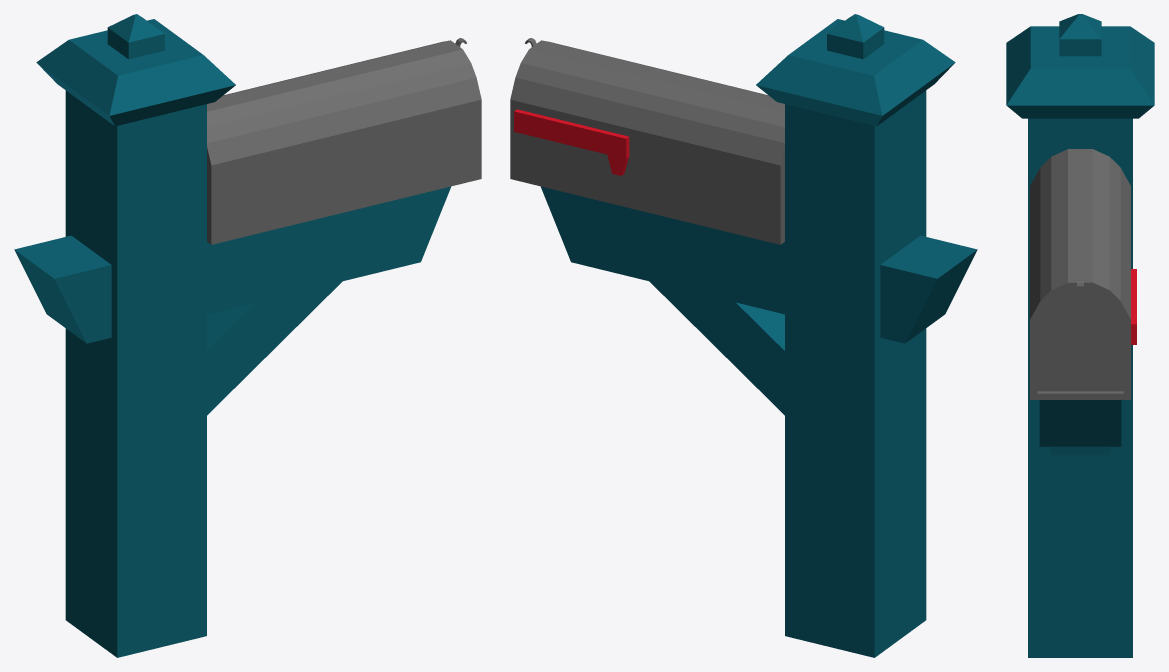
The model's file is mailbox_blue.gltf.
The picture shows the model from 3 angles, left to right: view 1: azimuth 30°, elevation 25°; view 2: azimuth 150°, elevation 25°; view 3: azimuth 270°, elevation 25°; orthographic projection.
Parts seen in each view (by area): view 1: Cube.262; view 2: Cube.262; view 3: Cube.262.
Boxes of the visible parts, x1,y1,x2,y2 form: Cube.262: (14, 14, 481, 657); Cube.262: (510, 14, 977, 657); Cube.262: (1006, 14, 1154, 657).
Bounding box in the file's own units: 171 × 233 × 50.37.
